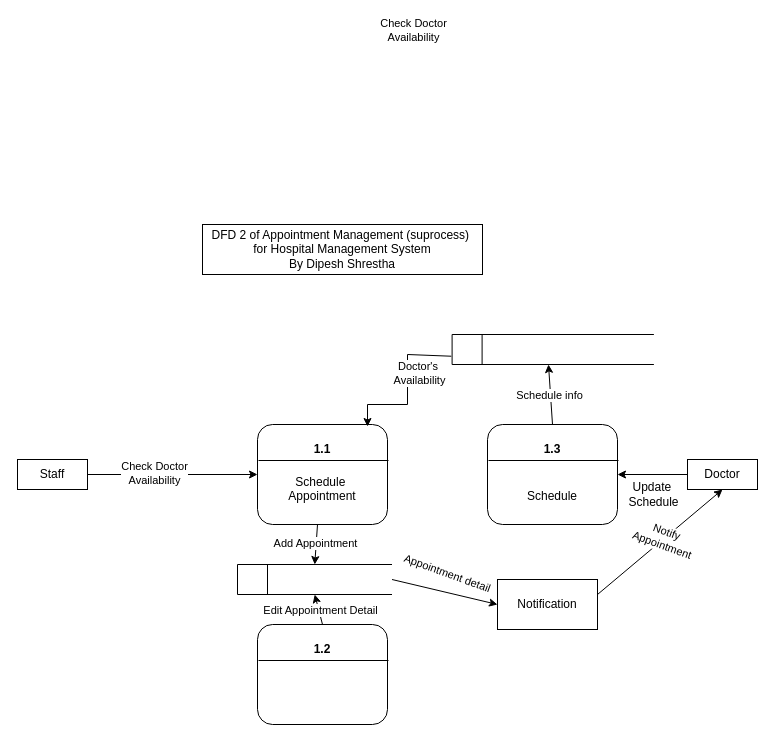
This 775x742 diagram has some shape labels left out. Here are the shapes that lost their labels. From the top down, the box of each, then its label:
(451, 334, 654, 364): D2 Schedule Records Records
(236, 564, 392, 594): D1 Appointment Records
(256, 624, 388, 724): Update Appointment
